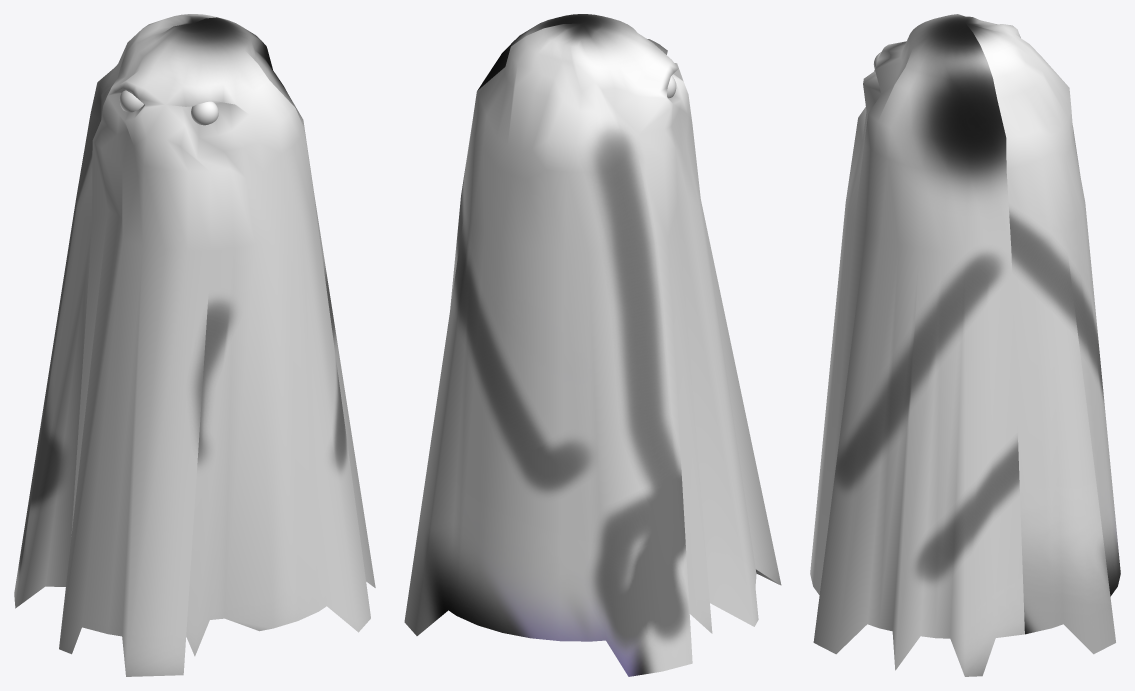
The model's file is ghost.fbx.
3 views of the same model, side by side, from view 1: azimuth 30°, elevation 25°; view 2: azimuth 150°, elevation 25°; view 3: azimuth 270°, elevation 25° (orthographic).
Visible parts, largest first — view 1: Sphere; view 2: Sphere; view 3: Sphere.
Part boxes in pixels (<box>): Sphere: <box>14,14,375,676</box>; Sphere: <box>404,14,781,676</box>; Sphere: <box>810,14,1120,676</box>.
Bounding box in the file's own units: 2.41 × 4.25 × 2.08.
Materials: 1 (1 with a texture image).
